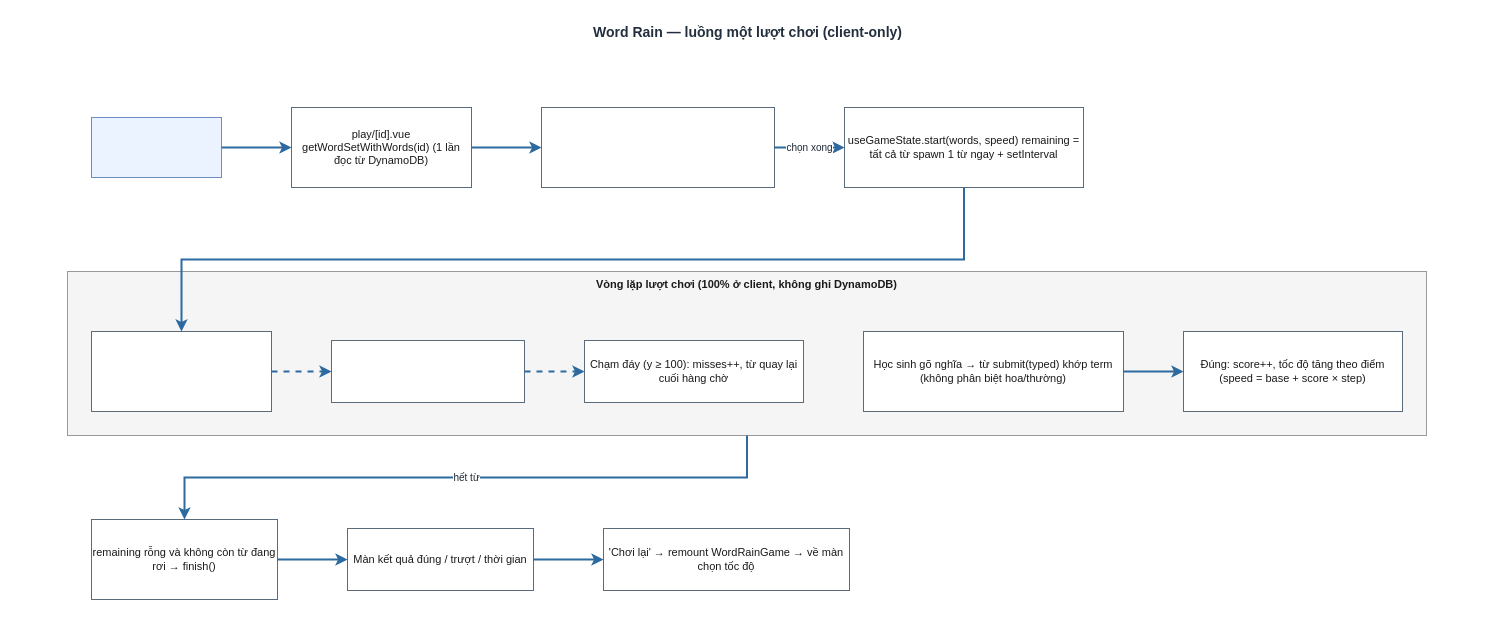
Image size: 1493x617. Some labels were removed from this diagram. The centre of each missing label's shape, as x and y in pixels:
"Danh sách bài bấm 'Chơi'" belongs at point (156, 147).
"requestAnimationFrame tick(dt): y += speed × dt" belongs at point (427, 371).
"spawn từ mới mỗi spawnIntervalMs (3200 / 2200 / 1600 ms)" belongs at point (181, 371).
"WordRainGame chọn tốc độ: Chậm / Vừa / Nhanh (lưu localStorage)" belongs at point (657, 147).
